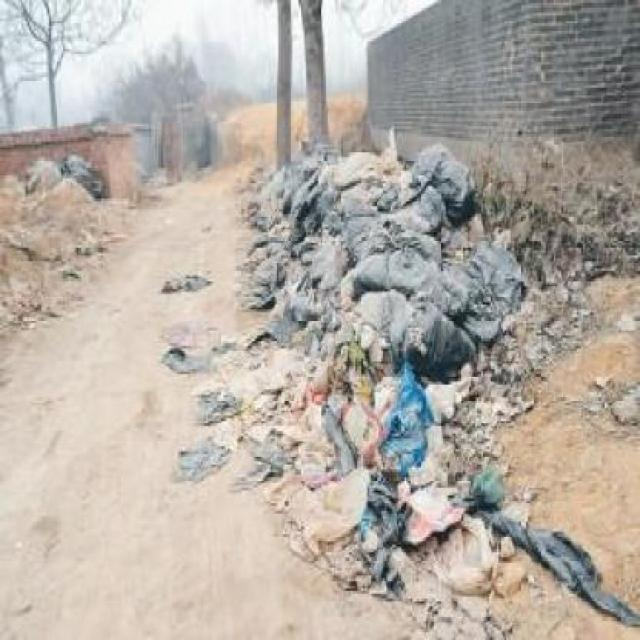garbage: (255, 155, 480, 560), (448, 457, 636, 620), (158, 271, 227, 475), (234, 171, 263, 494)
